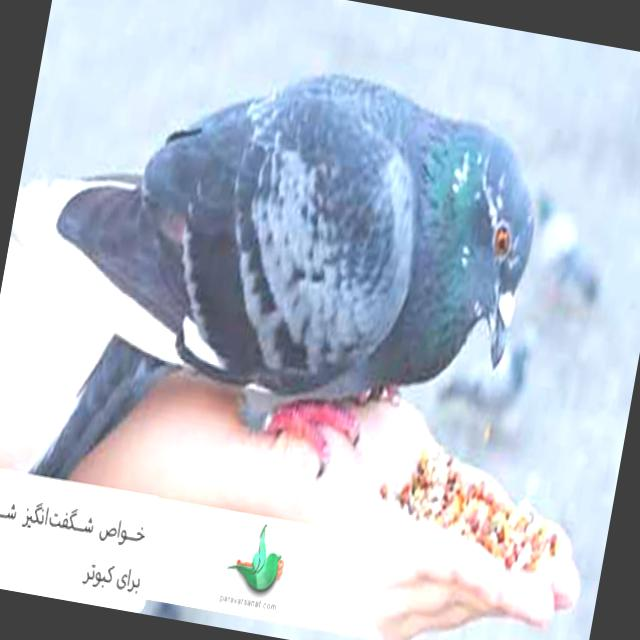bird: (0, 13, 565, 548)
